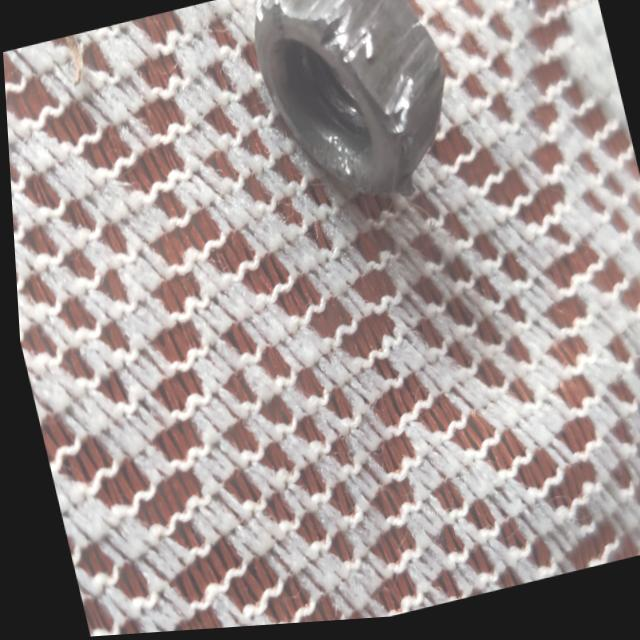infected nut: (253, 0, 443, 200)
